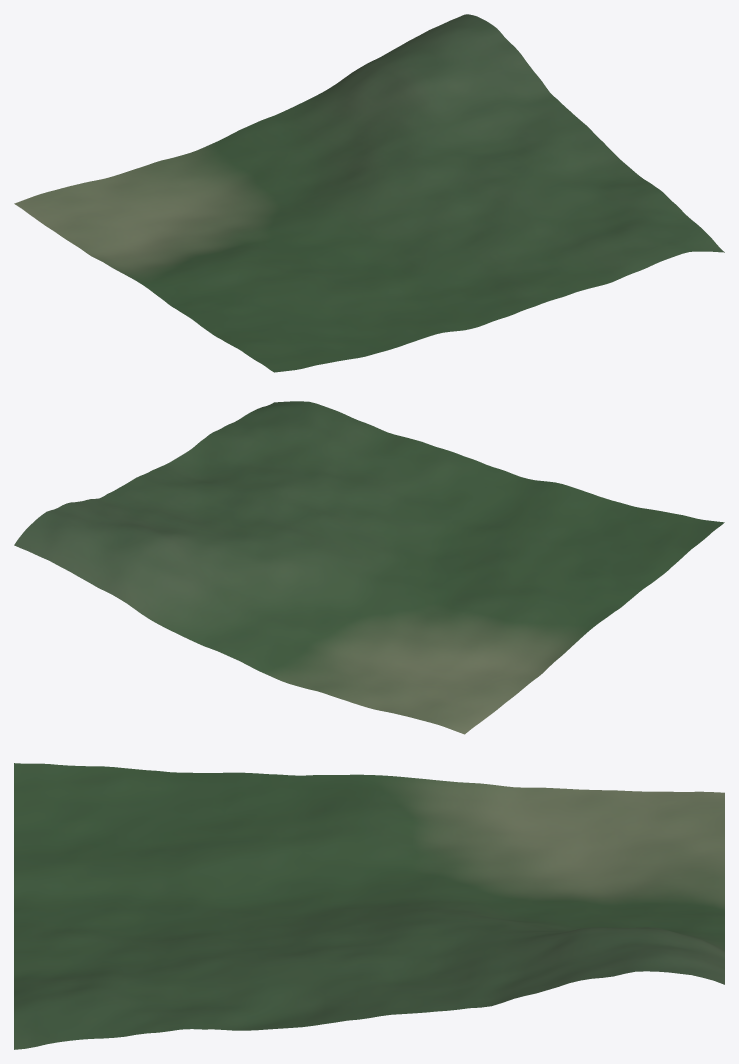
The model's file is chunk_1_1.obj.
3 views of the same model, one above another, from view 1: azimuth 30°, elevation 25°; view 2: azimuth 150°, elevation 25°; view 3: azimuth 270°, elevation 25° (orthographic). The views are drawn at different scales.
Visible parts, largest first — view 1: chunk_1_1.obj; view 2: chunk_1_1.obj; view 3: chunk_1_1.obj.
Part boxes in pixels (left/top/right/bottom): chunk_1_1.obj: left=14, top=14, right=724, bottom=372; chunk_1_1.obj: left=14, top=401, right=724, bottom=734; chunk_1_1.obj: left=14, top=763, right=724, bottom=1049.
Size of the model in its own units: 64 by 12.1 by 64.
Materials: 1 (1 with a texture image).
